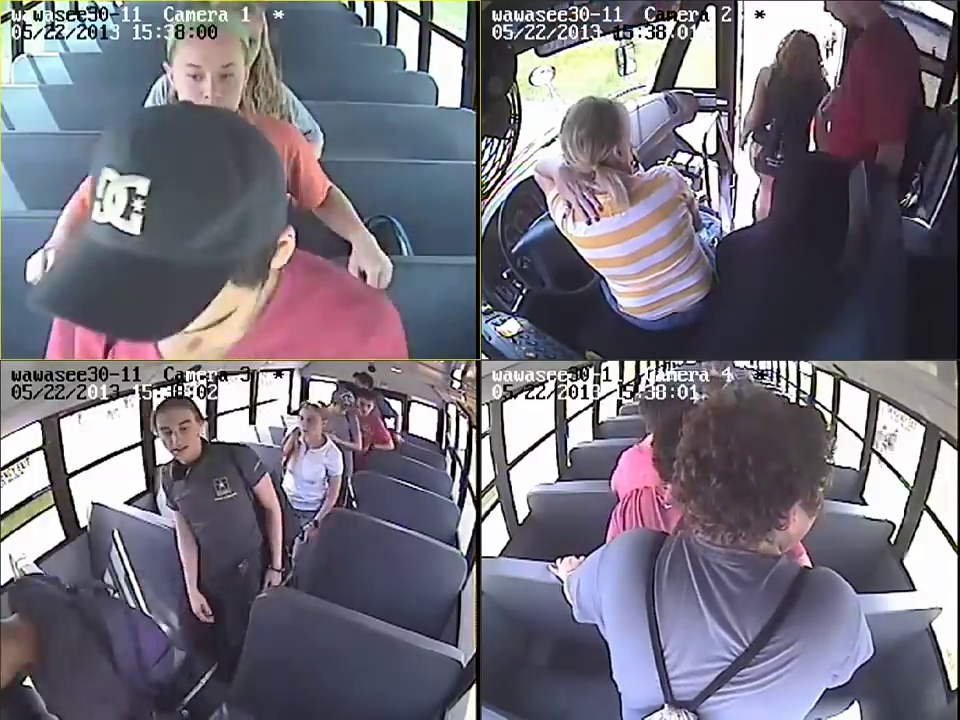face: (174, 41, 255, 116), (159, 415, 198, 457), (294, 410, 323, 439), (358, 397, 373, 417)
